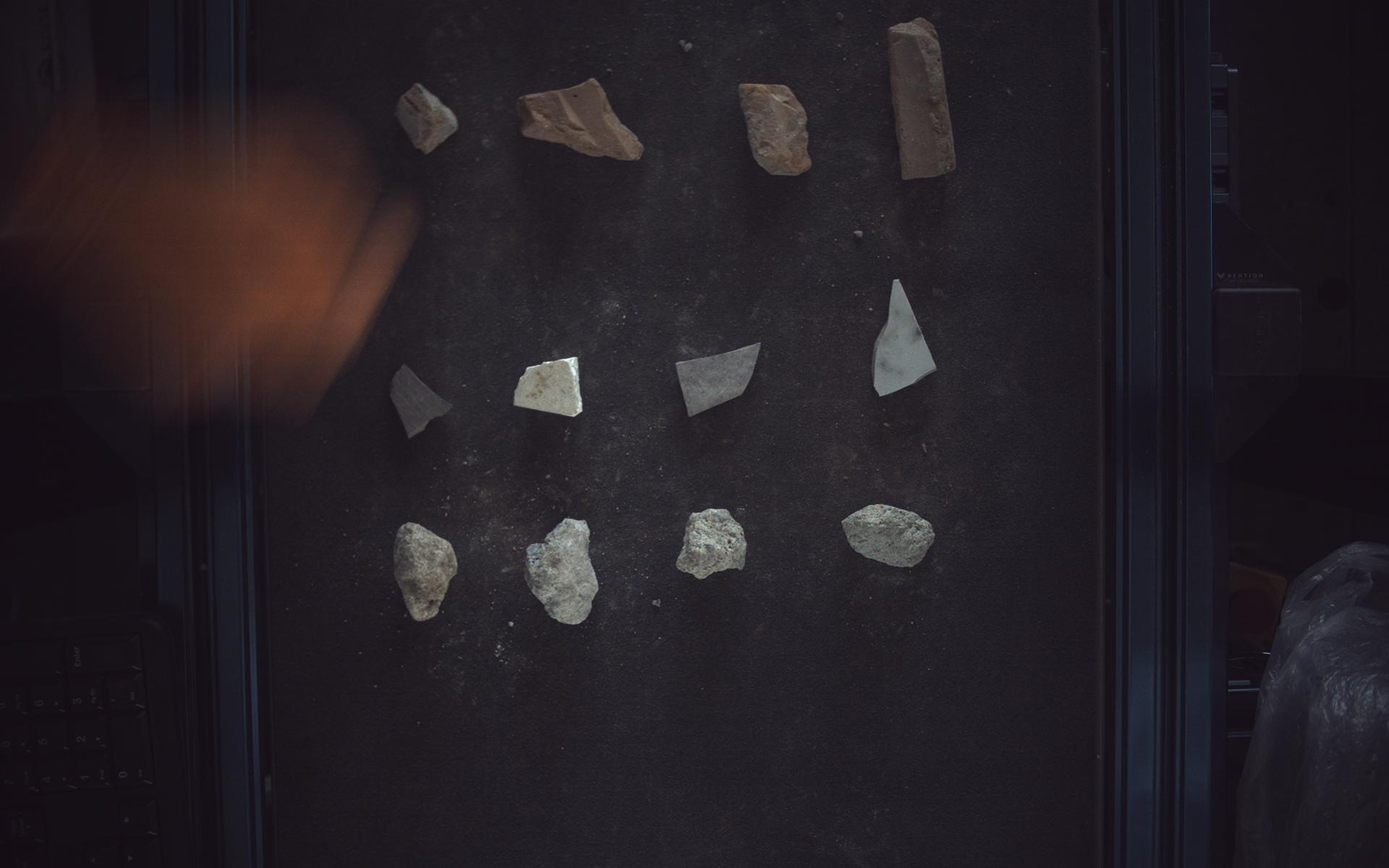brick: (890, 16, 958, 179), (517, 77, 645, 159), (742, 82, 813, 175), (396, 82, 458, 153)
concrete: (525, 519, 599, 626), (394, 523, 457, 622), (844, 505, 936, 568), (677, 509, 748, 579)
tile: (875, 278, 938, 396), (677, 343, 761, 417), (390, 365, 452, 438), (514, 357, 583, 417)
